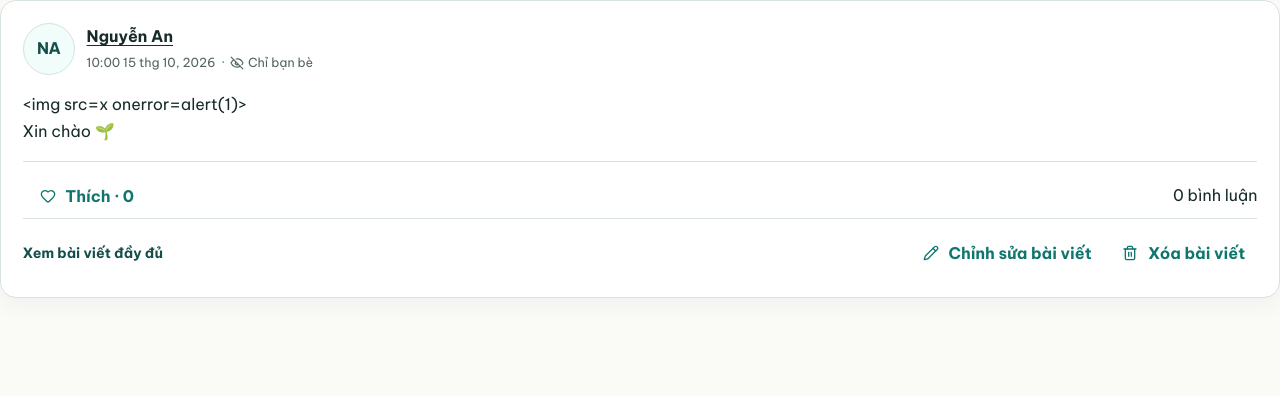
Test: PostCard › submits an owner edit with expectedVersion and updates the displayed Post
Click the button "Chỉnh sửa bài viết" at {"x": 1007, "y": 253}, box [911, 231, 1104, 275]
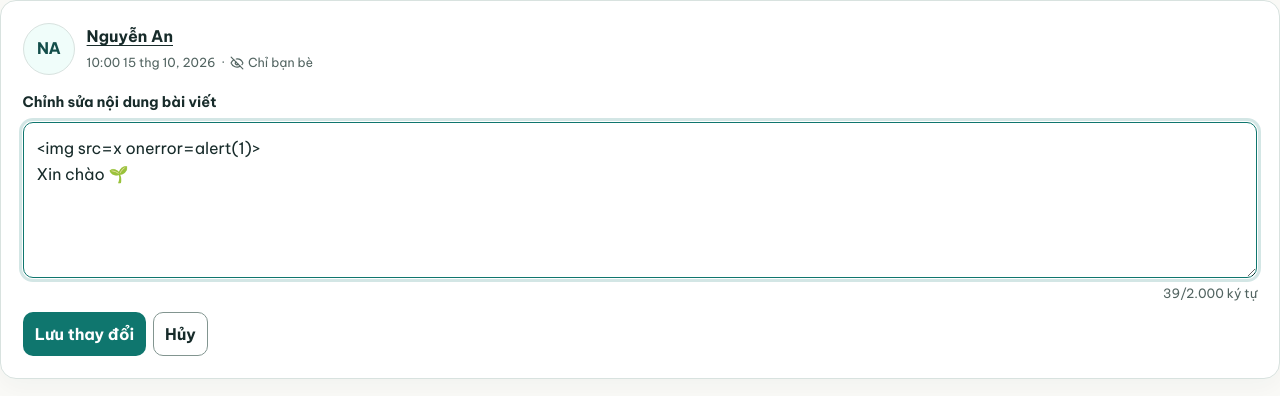
Replace the text in the text box labelled "Chỉnh sửa nội dung bài viết" with "Nội dung mới" at {"x": 640, "y": 200}, box [23, 122, 1257, 278]
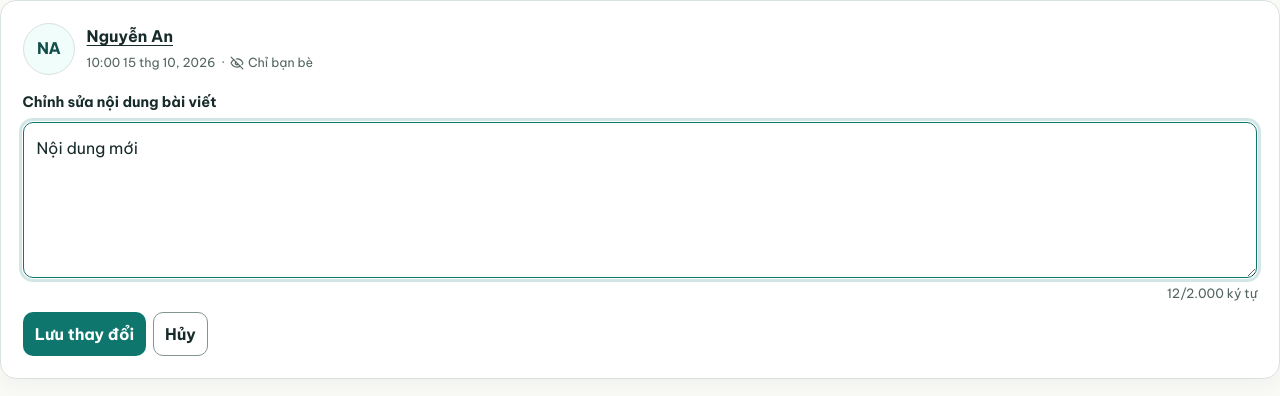
Click the button "Lưu thay đổi" at {"x": 84, "y": 334}, box [23, 312, 146, 356]
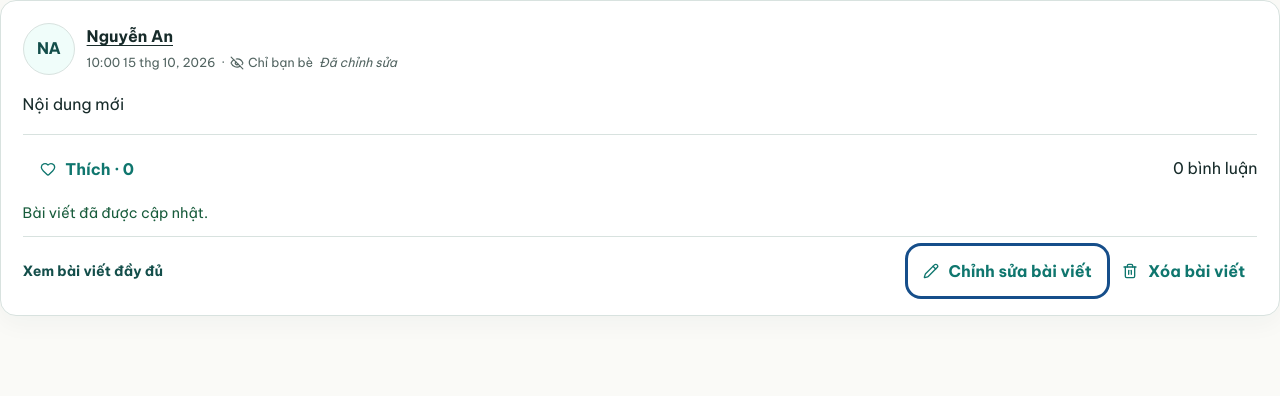
Expected: the text "Nội dung mới" is shown, [23, 94, 124, 114]
Expected: the text "Đã chỉnh sửa" is shown, [319, 53, 397, 73]
